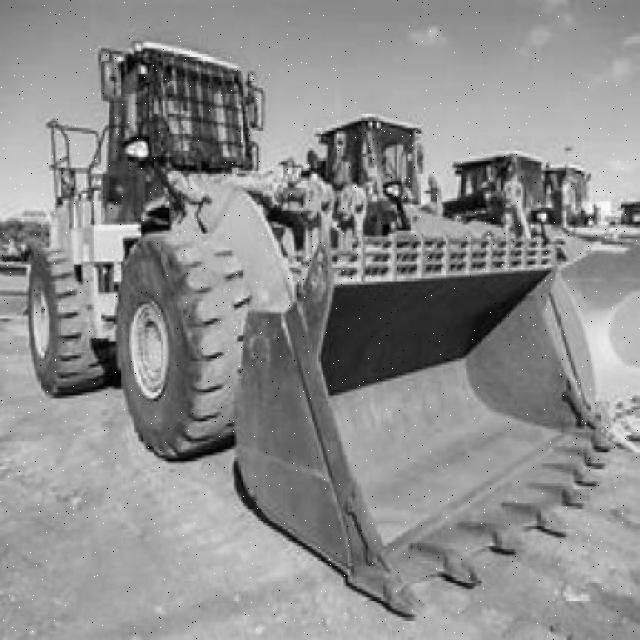Construction Equipment: (27, 42, 612, 621)
